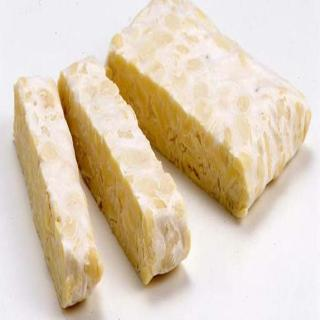Tempe: (58, 55, 192, 286), (14, 74, 105, 310)
